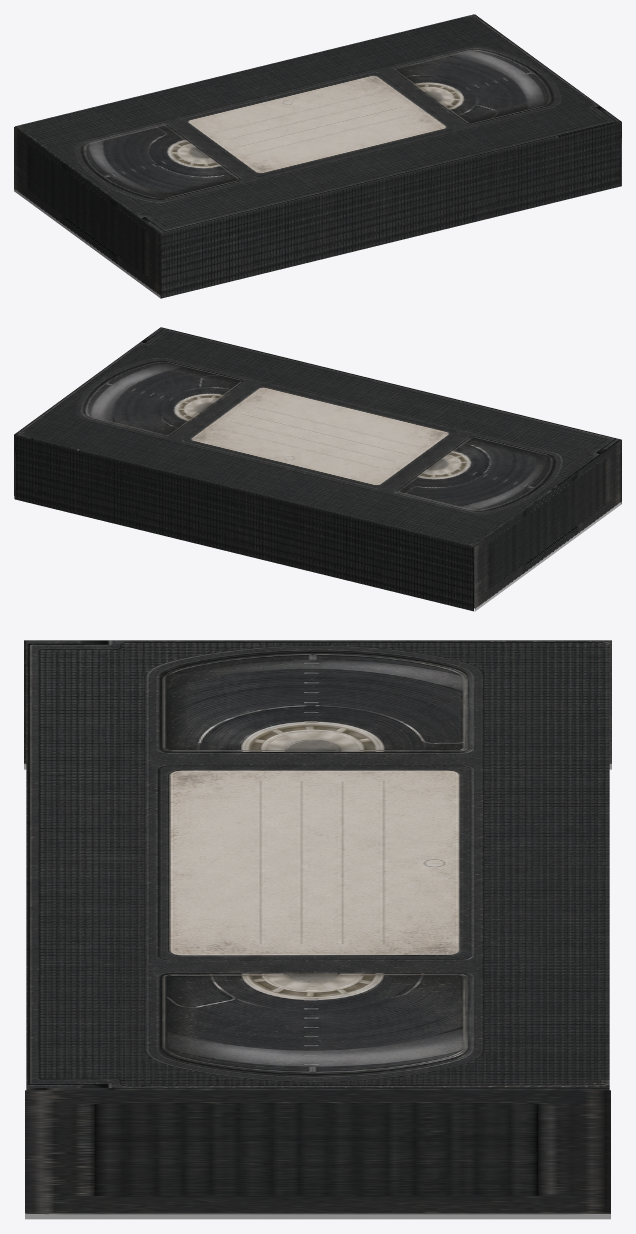
The model's file is VhsTape.FBX.
3 views of the same model, one above another, from view 1: azimuth 30°, elevation 25°; view 2: azimuth 150°, elevation 25°; view 3: azimuth 270°, elevation 25° (orthographic). The views are drawn at different scales.
Parts seen in each view (by area): view 1: Back_Edge_UV; view 2: Back_Edge_UV; view 3: Back_Edge_UV.
Boxes of the visible parts, x1,y1,x2,y2 form: Back_Edge_UV: (14,14,621,298); Back_Edge_UV: (14,327,621,611); Back_Edge_UV: (24,640,611,1219).
Size of the model in its own units: 329 by 44.36 by 181.
